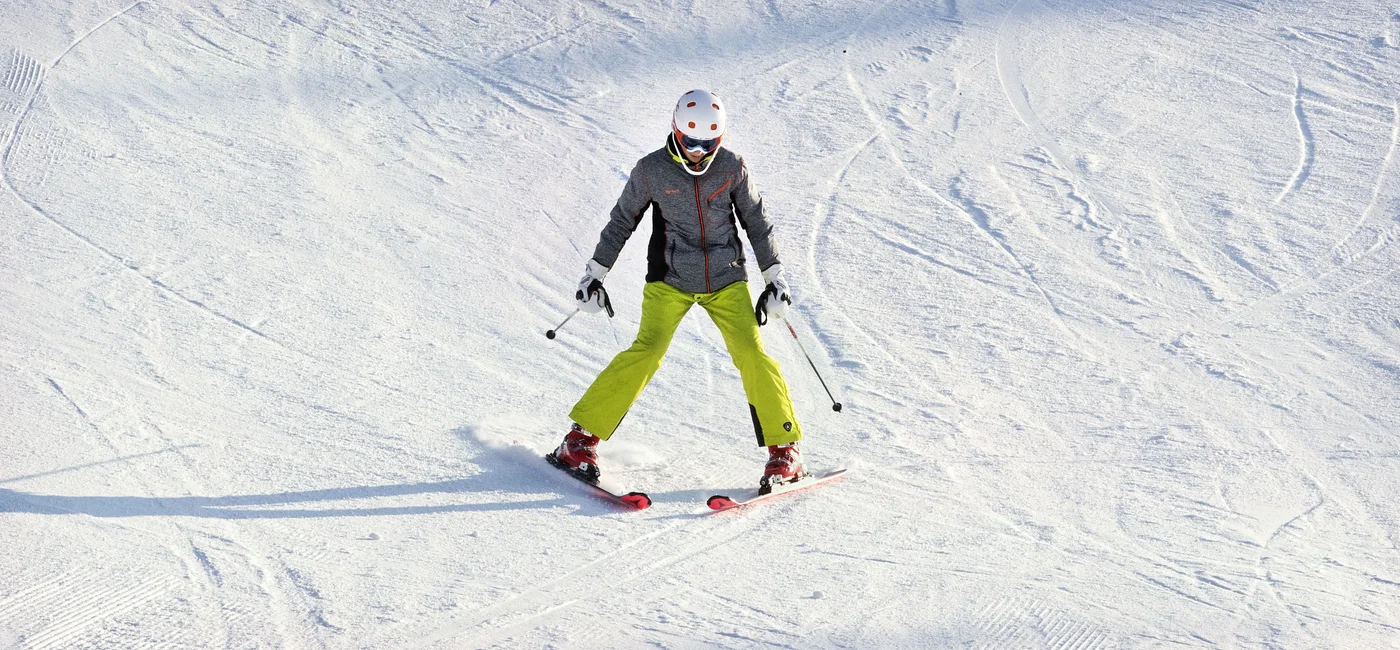skier: (526, 73, 852, 530)
